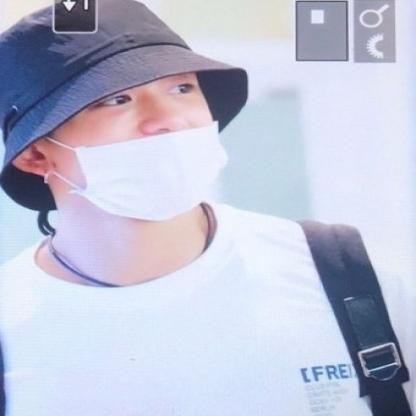hat: (0, 0, 252, 213)
